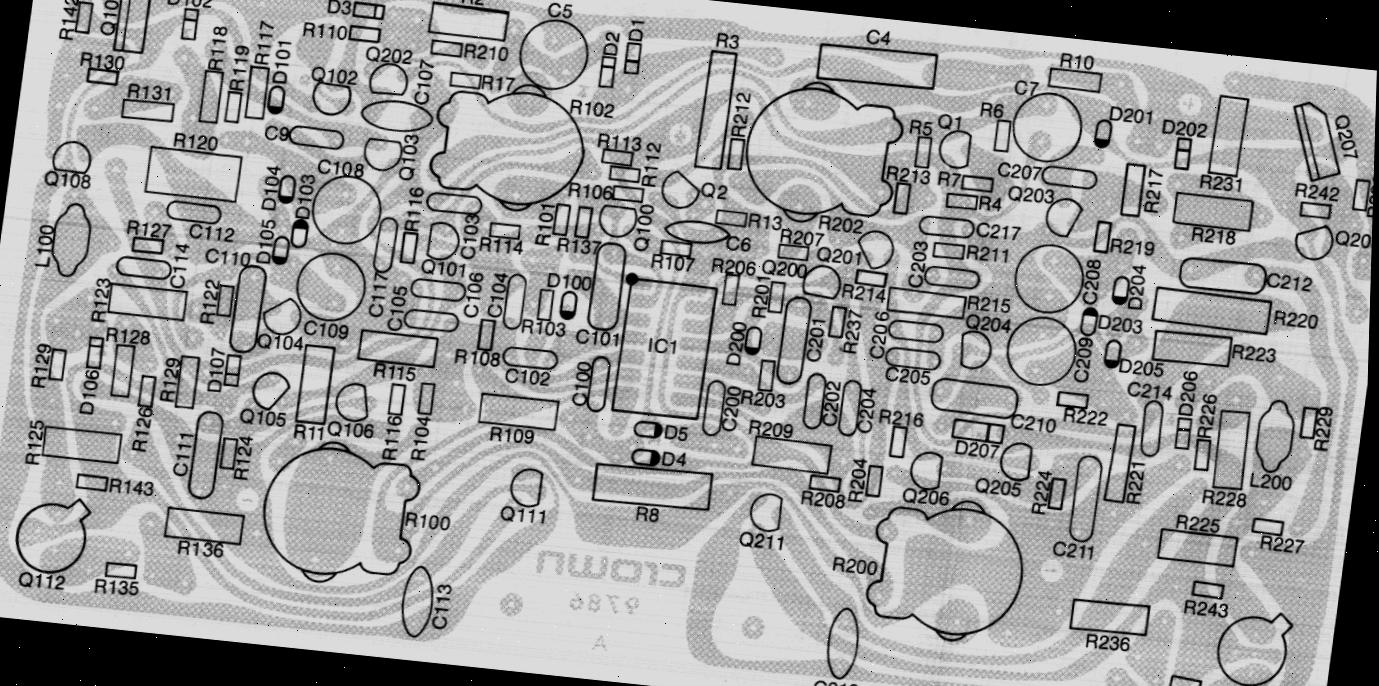compo_name: (509, 304, 622, 358), (587, 118, 675, 178), (411, 564, 470, 649), (871, 152, 970, 202), (1316, 99, 1375, 174), (90, 462, 169, 516), (1252, 256, 1330, 310), (1217, 328, 1291, 384), (114, 391, 166, 468), (439, 334, 515, 385), (1000, 397, 1070, 452), (163, 525, 236, 577), (817, 541, 892, 591), (391, 495, 464, 546), (485, 490, 555, 543), (703, 246, 789, 288), (1128, 156, 1178, 228), (397, 48, 449, 117), (293, 307, 366, 356), (891, 227, 941, 298), (716, 78, 765, 150), (1281, 167, 1354, 215), (724, 516, 794, 566), (1261, 294, 1331, 344), (183, 266, 233, 336), (374, 266, 421, 340), (445, 197, 492, 270), (1162, 499, 1232, 548), (217, 424, 266, 494), (1098, 223, 1169, 271), (10, 406, 58, 477), (1064, 248, 1115, 314), (397, 402, 445, 472), (389, 173, 436, 244), (157, 420, 204, 490), (868, 394, 939, 440), (1096, 92, 1164, 140), (1165, 359, 1209, 433), (712, 310, 759, 379), (115, 68, 185, 114), (856, 300, 902, 370), (707, 374, 753, 443), (146, 344, 192, 413), (1073, 620, 1142, 666), (351, 32, 423, 76), (17, 331, 62, 401), (1238, 457, 1305, 504), (77, 264, 124, 331), (7, 560, 75, 606), (195, 11, 239, 82), (283, 163, 327, 234), (992, 174, 1063, 218), (319, 406, 384, 454), (1052, 395, 1119, 441), (178, 208, 248, 252), (1180, 214, 1250, 258), (34, 157, 102, 202), (1089, 302, 1157, 347), (558, 348, 603, 416), (1018, 457, 1063, 525), (191, 338, 236, 406), (1114, 254, 1160, 320), (1248, 522, 1314, 568), (874, 354, 943, 398), (586, 20, 628, 92), (1058, 325, 1103, 392), (385, 121, 430, 188), (1040, 528, 1104, 575), (354, 258, 394, 333), (301, 54, 369, 98), (306, 145, 374, 189), (1300, 396, 1345, 462), (292, 11, 361, 54), (558, 86, 627, 129), (892, 474, 961, 517), (1111, 453, 1158, 516), (621, 193, 665, 260), (157, 122, 232, 161), (95, 312, 163, 355), (808, 368, 851, 436), (476, 414, 544, 457), (451, 30, 520, 72), (792, 480, 861, 522), (731, 377, 798, 420), (476, 260, 519, 327), (369, 401, 412, 468), (245, 154, 290, 218), (449, 258, 493, 323), (792, 306, 835, 372), (964, 465, 1030, 508), (23, 210, 67, 274), (231, 396, 298, 438), (495, 357, 560, 400), (67, 352, 111, 415), (114, 206, 180, 248), (83, 0, 133, 55), (989, 150, 1054, 192), (738, 408, 803, 450), (1108, 348, 1176, 388), (83, 568, 151, 608), (522, 192, 565, 255), (1186, 384, 1227, 450), (844, 376, 885, 442), (628, 437, 697, 476), (836, 449, 880, 510), (1154, 107, 1219, 148), (808, 203, 874, 243), (943, 430, 1007, 471), (1191, 477, 1255, 518), (954, 305, 1021, 344), (829, 302, 871, 364), (964, 211, 1029, 251), (69, 41, 134, 81), (1174, 588, 1239, 628), (1319, 216, 1373, 264), (536, 261, 600, 301), (951, 235, 1017, 273), (162, 231, 201, 295), (957, 281, 1021, 320), (558, 170, 623, 208), (251, 323, 308, 365), (806, 235, 869, 273), (640, 242, 703, 280), (245, 209, 285, 268), (1189, 164, 1249, 203), (849, 16, 907, 56), (1048, 42, 1109, 80), (361, 352, 425, 388), (965, 89, 1018, 132), (44, 0, 89, 50), (545, 227, 604, 265), (735, 200, 792, 239), (466, 64, 523, 103), (310, 0, 388, 28), (830, 274, 894, 308), (218, 39, 256, 96), (263, 36, 299, 93), (741, 274, 779, 326), (716, 224, 767, 262), (252, 114, 303, 152), (199, 242, 257, 275), (641, 413, 698, 446), (475, 230, 528, 265), (777, 218, 827, 255), (244, 14, 278, 68), (623, 496, 670, 534), (1003, 67, 1049, 105), (801, 663, 876, 686), (284, 414, 327, 450), (536, 0, 584, 30), (1353, 163, 1374, 230), (967, 187, 1010, 218), (157, 0, 222, 17), (634, 164, 667, 195), (1225, 673, 1297, 686), (446, 0, 498, 13)
